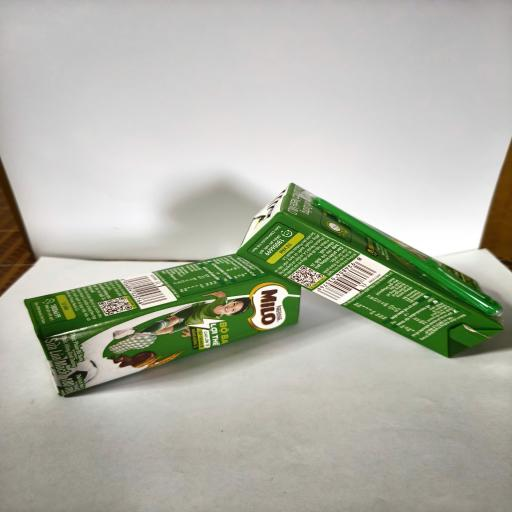milo: (236, 182, 505, 358), (24, 254, 302, 397)
